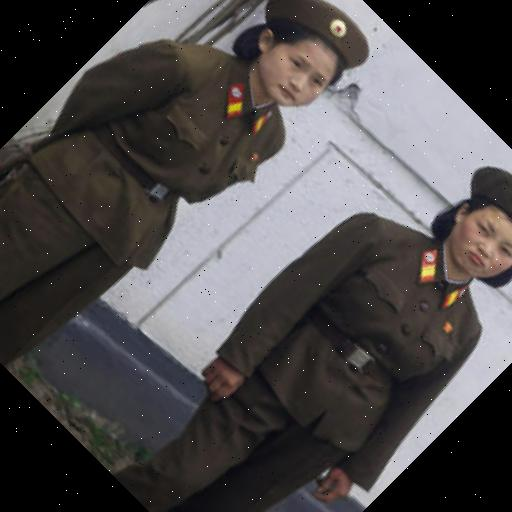north army: (20, 10, 266, 414), (276, 126, 500, 512)
